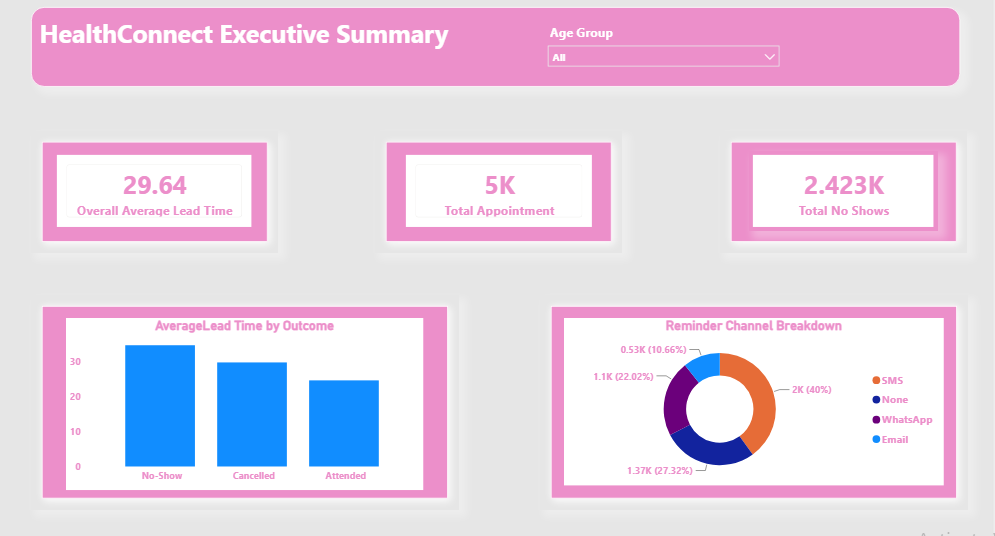

What the dashboard file says about the page in this screenshot:
{"tool":"powerbi","page":{"name":"Page 1","canvas":[1280,720],"ordinal":0},"visuals":[{"type":"textbox","box":[39.9,24.8,1198.8,103.2],"z":0},{"type":"shape","box":[484.5,184.4,319.3,156.9],"z":1000},{"type":"shape","box":[696.4,395.7,551.9,276.6],"z":2000},{"type":"shape","box":[929,184.4,319.3,156.9],"z":3000},{"type":"shape","box":[39.9,184.4,319.3,156.9],"z":4000},{"type":"cardVisual","fields":{"Data":["CountNonNull(HealthConnect_Appointment_Data.appointment_id)"]},"box":[518.9,210.6,250.5,103.2],"z":5000},{"type":"cardVisual","fields":{"Data":["CountNonNull(HealthConnect_Appointment_Data.appointment_id)"]},"box":[966.2,210.6,243.6,103.2],"z":6000},{"type":"cardVisual","fields":{"Data":["Avg(HealthConnect_Appointment_Data.booking_lead_days)"]},"box":[68.8,210.6,261.5,103.2],"z":7000},{"type":"donutChart","title":"Reminder Channel Breakdown","fields":{"Category":["HealthConnect_Appointment_Data.reminder_channel"],"Y":["CountNonNull(HealthConnect_Appointment_Data.appointment_id)"]},"box":[728.1,425.3,490,216.1],"z":8000},{"type":"slicer","fields":{"Values":["HealthConnect_Appointment_Data.age_group"]},"box":[696.4,41.3,319.3,70.2],"z":9000},{"type":"shape","box":[39.9,396.4,551.9,276.6],"z":11000},{"type":"clusteredColumnChart","title":"AverageLead Time by Outcome","fields":{"Category":["HealthConnect_Appointment_Data.appointment_outcome"],"Y":["Avg(HealthConnect_Appointment_Data.booking_lead_days)"]},"box":[85.3,425.3,461.1,221.6],"z":11500}]}

Visuals, with their boxes on the page's 1280x720 design canvas (x1, y1, x2, y2). These are canvas units, not pixel positions in the 995x536 screenshot, which may show the page scaled, cropped or inside an application window:
textbox: rect(40, 25, 1239, 128)
shape: rect(484, 184, 804, 341)
shape: rect(696, 396, 1248, 672)
shape: rect(929, 184, 1248, 341)
shape: rect(40, 184, 359, 341)
cardVisual - CountNonNull(HealthConnect_Appointment_Data.appointment_id): rect(519, 211, 769, 314)
cardVisual - CountNonNull(HealthConnect_Appointment_Data.appointment_id): rect(966, 211, 1210, 314)
cardVisual - Avg(HealthConnect_Appointment_Data.booking_lead_days): rect(69, 211, 330, 314)
"Reminder Channel Breakdown" donutChart: rect(728, 425, 1218, 641)
slicer - HealthConnect_Appointment_Data.age_group: rect(696, 41, 1016, 112)
shape: rect(40, 396, 592, 673)
"AverageLead Time by Outcome" clusteredColumnChart: rect(85, 425, 546, 647)
